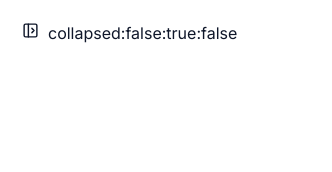
Test case: SidebarProvider › opens a dialog drawer below the 900px breakpoint
This screenshot has width=332, height=172.
Later steps or results of the test are not shown.
Click the button named "Expand sidebar". click: (30, 30)
box: x1=12 y1=12 x2=48 y2=48
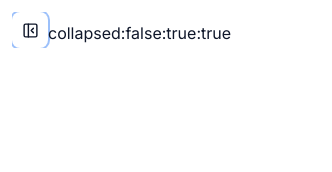
Result: the text with test id "state" reads "collapsed:false:true:true" at x1=48 y1=22 x2=231 y2=42
